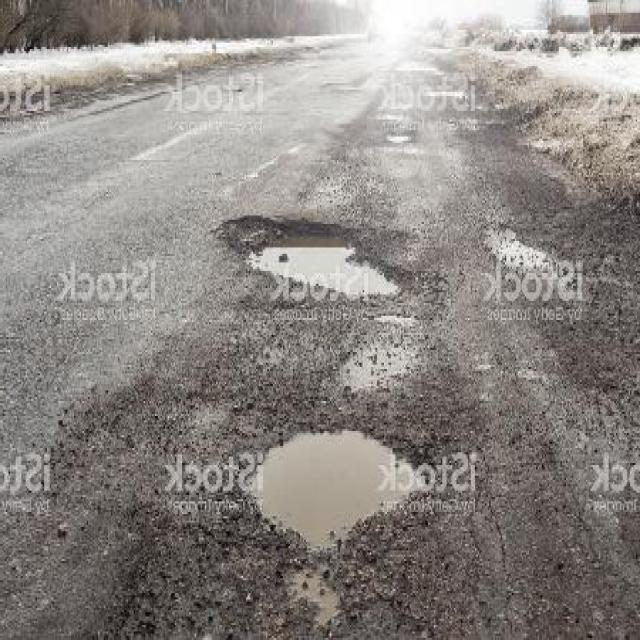buraco: (242, 420, 424, 546), (246, 425, 421, 546), (220, 209, 418, 301), (222, 219, 414, 301)
